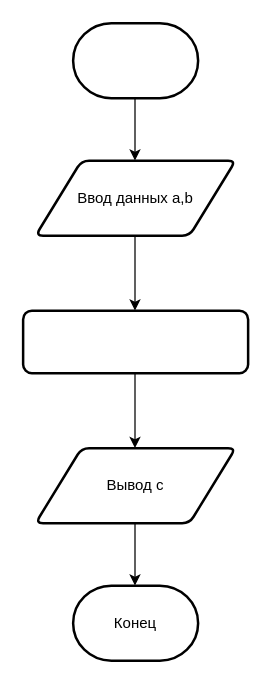
The diagram is 270 pixels wide and 683 high, and some of its shapes have lost their labels. The shapes that lost their labels are listed below. From the top down, each one's centre as x and y in pixels, then its label:
At [135,60]: "Начало".
At [135,341]: "c=sqrt(a*a+b*b)".
